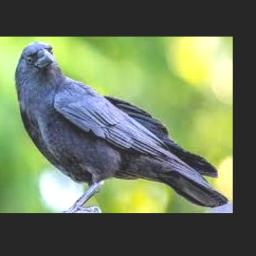Crow: (14, 41, 228, 212)
